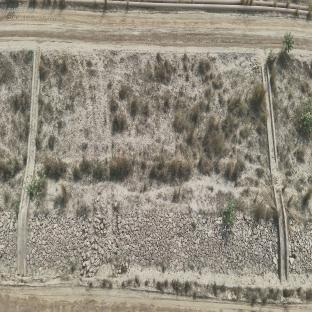rock_toe: (118, 215, 280, 274), (30, 214, 85, 269), (79, 215, 117, 275), (289, 222, 311, 273), (0, 211, 19, 266)
slope_drain: (262, 66, 290, 284), (17, 47, 41, 275)
